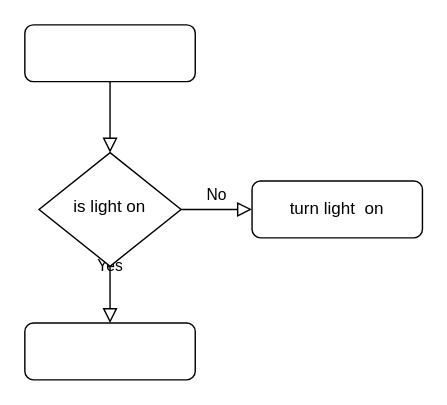
Image size: 447x405. Some labels were removed from this diagram. The centre of each missing label's shape, as x and y in pixels:
"Toggle light" belongs at (x=109, y=52).
"turn light off" belongs at (x=109, y=351).
